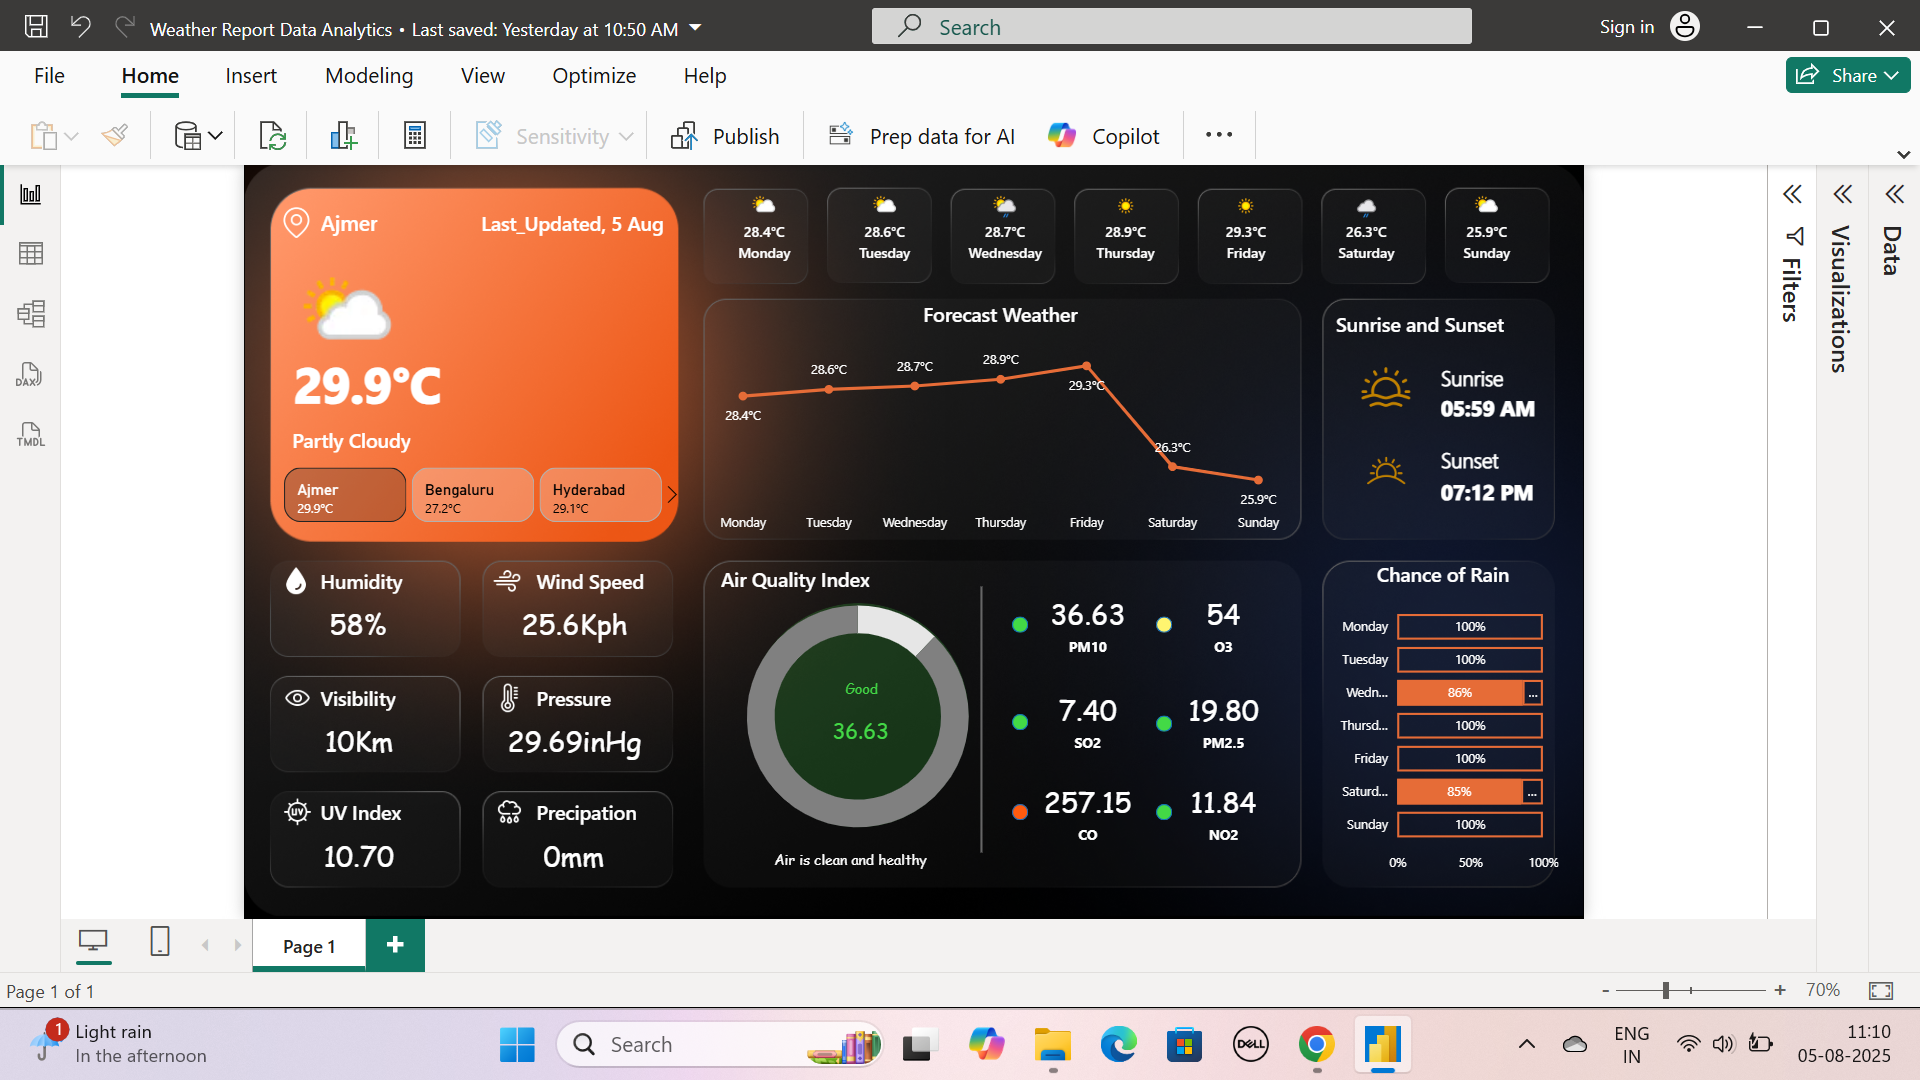

The page's visual inventory and layout, read from the dashboard file:
{"tool":"powerbi","page":{"name":"Page 1","canvas":[1280,720],"ordinal":0},"visuals":[{"type":"shape","box":[480.7,418.4,210.9,214.4],"z":0},{"type":"advancedSlicerVisual","fields":{"Values":["Location.location.name"]},"box":[13.2,283.5,412,62.4],"z":1000},{"type":"shape","box":[43.5,172,207.9,68],"z":2000},{"type":"shape","box":[43.5,240,357.2,43.5],"z":3000},{"type":"shape","box":[69.9,34,141.7,41.6],"z":4000},{"type":"shape","box":[223,34,183.3,41.6],"z":5000},{"type":"image","box":[30.2,34,39.7,41.6],"z":6000},{"type":"cardVisual","fields":{"Data":["Min(Current.current.condition.icon)"]},"box":[30.2,75.6,117.2,109.6],"z":7000},{"type":"image","box":[30.2,378,39.7,37.8],"z":8000},{"type":"shape","box":[69.9,378,124.7,37.8],"z":9000},{"type":"shape","box":[275.9,378,124.7,37.8],"z":10000},{"type":"image","box":[223,378,54.8,37.8],"z":11000},{"type":"image","box":[30.2,489.5,41.6,37.8],"z":12000},{"type":"shape","box":[69.9,489.5,124.7,37.8],"z":13000},{"type":"shape","box":[275.9,489.5,124.7,37.8],"z":14000},{"type":"image","box":[228.7,489.5,49.1,37.8],"z":15000},{"type":"shape","box":[69.9,599.1,124.7,37.8],"z":16000},{"type":"image","box":[30.2,599.1,41.6,37.8],"z":17000},{"type":"shape","box":[275.9,599.1,124.7,37.8],"z":18000},{"type":"image","box":[228.7,599.1,49.1,37.8],"z":19000},{"type":"card","fields":{"Values":["_Measure.Humidity"]},"box":[66.1,415.8,85,47.2],"z":20000},{"type":"card","fields":{"Values":["_Measure.Wind_Speed"]},"box":[249.5,415.8,132.3,47.2],"z":21000},{"type":"card","fields":{"Values":["_Measure.Visibility"]},"box":[60.5,527.2,98.3,47.2],"z":22000},{"type":"card","fields":{"Values":["_Measure.Pressure"]},"box":[226.8,527.2,177.6,47.2],"z":23000},{"type":"card","fields":{"Values":["Sum(Current.current.uv)"]},"box":[62.4,636.9,92.6,47.2],"z":24000},{"type":"card","fields":{"Values":["_Measure.Precipitation"]},"box":[260.8,636.9,107.7,47.2],"z":25000},{"type":"advancedSlicerVisual","fields":{"Values":["Forecast_Day.DayName"]},"box":[439,20.7,811.2,90.7],"z":26000},{"type":"lineChart","title":"Forecast Weather","fields":{"Y":["Sum(Forecast_Day.forecast.forecastday.day.avgtemp_c)"],"Category":["Forecast_Day.DayName"]},"box":[439,130.4,567.8,229],"z":27000},{"type":"shape","box":[1040.3,133.6,219.5,38.2],"z":28000},{"type":"shape","box":[1140.5,211.6,109.8,38.2],"z":29000},{"type":"shape","box":[1140.5,292.7,109.8,38.2],"z":30000},{"type":"shape","box":[1140.5,262.5,109.8,38.2],"z":31000},{"type":"shape","box":[1140.5,182.9,109.8,38.2],"z":32000},{"type":"image","box":[1057.8,182.9,66.8,57.3],"z":33000},{"type":"image","box":[1057.8,262.5,66.8,58.9],"z":34000},{"type":"hundredPercentStackedBarChart","title":"Chance of Rain","fields":{"Category":["Forecast_Day.DayName"],"Y":["Sum(Forecast_Day.ChancePercent)","Sum(Forecast_Day.Left_Value_Rain%)"]},"box":[1029.7,378.6,230.2,305.9],"z":35000},{"type":"shape","box":[452.7,377,151.4,37.9],"z":36000},{"type":"card","fields":{"Values":["Sum(Current.current.air_quality.o3)"]},"box":[887,406.3,96.8,64],"z":37000},{"type":"card","fields":{"Values":["Sum(Current.current.air_quality.pm2_5)"]},"box":[887,497.9,96.8,64],"z":38000},{"type":"card","fields":{"Values":["Sum(Current.current.air_quality.no2)"]},"box":[887,586.1,96.8,64],"z":39000},{"type":"card","fields":{"Values":["Sum(Current.current.air_quality.pm10)"]},"box":[748.6,406.3,112.4,64],"z":40000},{"type":"card","fields":{"Values":["Sum(Current.current.air_quality.so2)"]},"box":[748.6,497.9,112.4,64],"z":41000},{"type":"card","fields":{"Values":["Sum(Current.current.air_quality.co)"]},"box":[748.6,586.1,112.4,64],"z":42000},{"type":"shape","box":[733.1,430.5,15.6,15.6],"z":43000},{"type":"shape","box":[733.1,523.9,15.6,15.6],"z":44000},{"type":"shape","box":[733.1,610.3,15.6,15.6],"z":45000},{"type":"shape","box":[871.4,430.5,15.6,15.6],"z":46000},{"type":"shape","box":[871.4,525.6,15.6,15.6],"z":47000},{"type":"shape","box":[871.4,610.3,15.6,15.6],"z":48000},{"type":"shape","box":[695,402.8,19,254.2],"z":49000},{"type":"card","fields":{"Values":["Sum(Current.current.air_quality.pm10)"]},"box":[530.8,510,114.1,64],"z":50000},{"type":"donutChart","fields":{"Y":["Sum(Current.current.air_quality.pm10)","_Measure.Left_Value_PM10"]},"box":[447.8,385.6,274.9,281.8],"z":51000},{"type":"card","fields":{"Values":["_Measure.AQI_StatusAQI Status Text"]},"box":[534.2,470.3,110.7,64],"z":52000},{"type":"card","fields":{"Values":["_Measure.AQI_Suggestion"]},"box":[453,632.8,252.4,64],"z":53000}]}

Visuals, with their boxes on the page's 1280x720 design canvas (x1, y1, x2, y2). These are canvas units, not pixel positions in the 1920x1080 screenshot, which may show the page scaled, cropped or inside an application window:
shape: <bbox>481, 418, 692, 633</bbox>
advancedSlicerVisual - Location.location.name: <bbox>13, 284, 425, 346</bbox>
shape: <bbox>44, 172, 251, 240</bbox>
shape: <bbox>44, 240, 401, 284</bbox>
shape: <bbox>70, 34, 212, 76</bbox>
shape: <bbox>223, 34, 406, 76</bbox>
image: <bbox>30, 34, 70, 76</bbox>
cardVisual - Min(Current.current.condition.icon): <bbox>30, 76, 147, 185</bbox>
image: <bbox>30, 378, 70, 416</bbox>
shape: <bbox>70, 378, 195, 416</bbox>
shape: <bbox>276, 378, 401, 416</bbox>
image: <bbox>223, 378, 278, 416</bbox>
image: <bbox>30, 490, 72, 527</bbox>
shape: <bbox>70, 490, 195, 527</bbox>
shape: <bbox>276, 490, 401, 527</bbox>
image: <bbox>229, 490, 278, 527</bbox>
shape: <bbox>70, 599, 195, 637</bbox>
image: <bbox>30, 599, 72, 637</bbox>
shape: <bbox>276, 599, 401, 637</bbox>
image: <bbox>229, 599, 278, 637</bbox>
card - _Measure.Humidity: <bbox>66, 416, 151, 463</bbox>
card - _Measure.Wind_Speed: <bbox>250, 416, 382, 463</bbox>
card - _Measure.Visibility: <bbox>60, 527, 159, 574</bbox>
card - _Measure.Pressure: <bbox>227, 527, 404, 574</bbox>
card - Sum(Current.current.uv): <bbox>62, 637, 155, 684</bbox>
card - _Measure.Precipitation: <bbox>261, 637, 368, 684</bbox>
advancedSlicerVisual - Forecast_Day.DayName: <bbox>439, 21, 1250, 111</bbox>
"Forecast Weather" lineChart: <bbox>439, 130, 1007, 359</bbox>
shape: <bbox>1040, 134, 1260, 172</bbox>
shape: <bbox>1140, 212, 1250, 250</bbox>
shape: <bbox>1140, 293, 1250, 331</bbox>
shape: <bbox>1140, 262, 1250, 301</bbox>
shape: <bbox>1140, 183, 1250, 221</bbox>
image: <bbox>1058, 183, 1125, 240</bbox>
image: <bbox>1058, 262, 1125, 321</bbox>
"Chance of Rain" hundredPercentStackedBarChart: <bbox>1030, 379, 1260, 684</bbox>
shape: <bbox>453, 377, 604, 415</bbox>
card - Sum(Current.current.air_quality.o3): <bbox>887, 406, 984, 470</bbox>
card - Sum(Current.current.air_quality.pm2_5): <bbox>887, 498, 984, 562</bbox>
card - Sum(Current.current.air_quality.no2): <bbox>887, 586, 984, 650</bbox>
card - Sum(Current.current.air_quality.pm10): <bbox>749, 406, 861, 470</bbox>
card - Sum(Current.current.air_quality.so2): <bbox>749, 498, 861, 562</bbox>
card - Sum(Current.current.air_quality.co): <bbox>749, 586, 861, 650</bbox>
shape: <bbox>733, 430, 749, 446</bbox>
shape: <bbox>733, 524, 749, 540</bbox>
shape: <bbox>733, 610, 749, 626</bbox>
shape: <bbox>871, 430, 887, 446</bbox>
shape: <bbox>871, 526, 887, 541</bbox>
shape: <bbox>871, 610, 887, 626</bbox>
shape: <bbox>695, 403, 714, 657</bbox>
card - Sum(Current.current.air_quality.pm10): <bbox>531, 510, 645, 574</bbox>
donutChart - Sum(Current.current.air_quality.pm10) x _Measure.Left_Value_PM10: <bbox>448, 386, 723, 667</bbox>
card - _Measure.AQI_StatusAQI Status Text: <bbox>534, 470, 645, 534</bbox>
card - _Measure.AQI_Suggestion: <bbox>453, 633, 705, 697</bbox>
